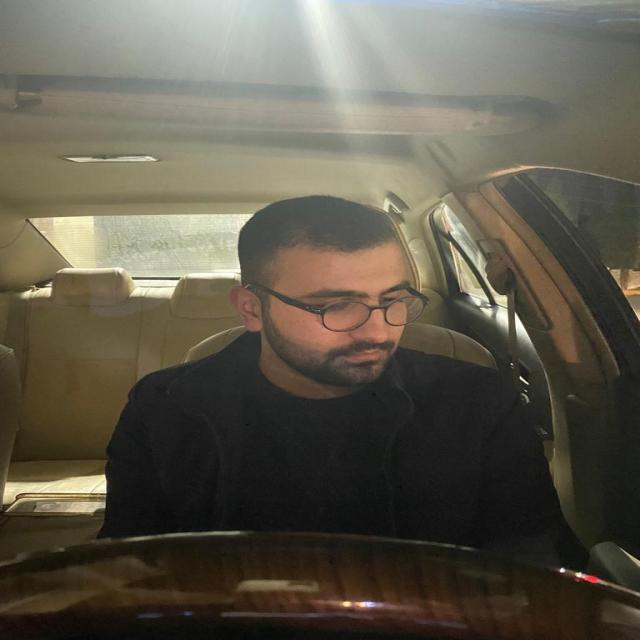drowsy: (250, 213, 437, 389)
